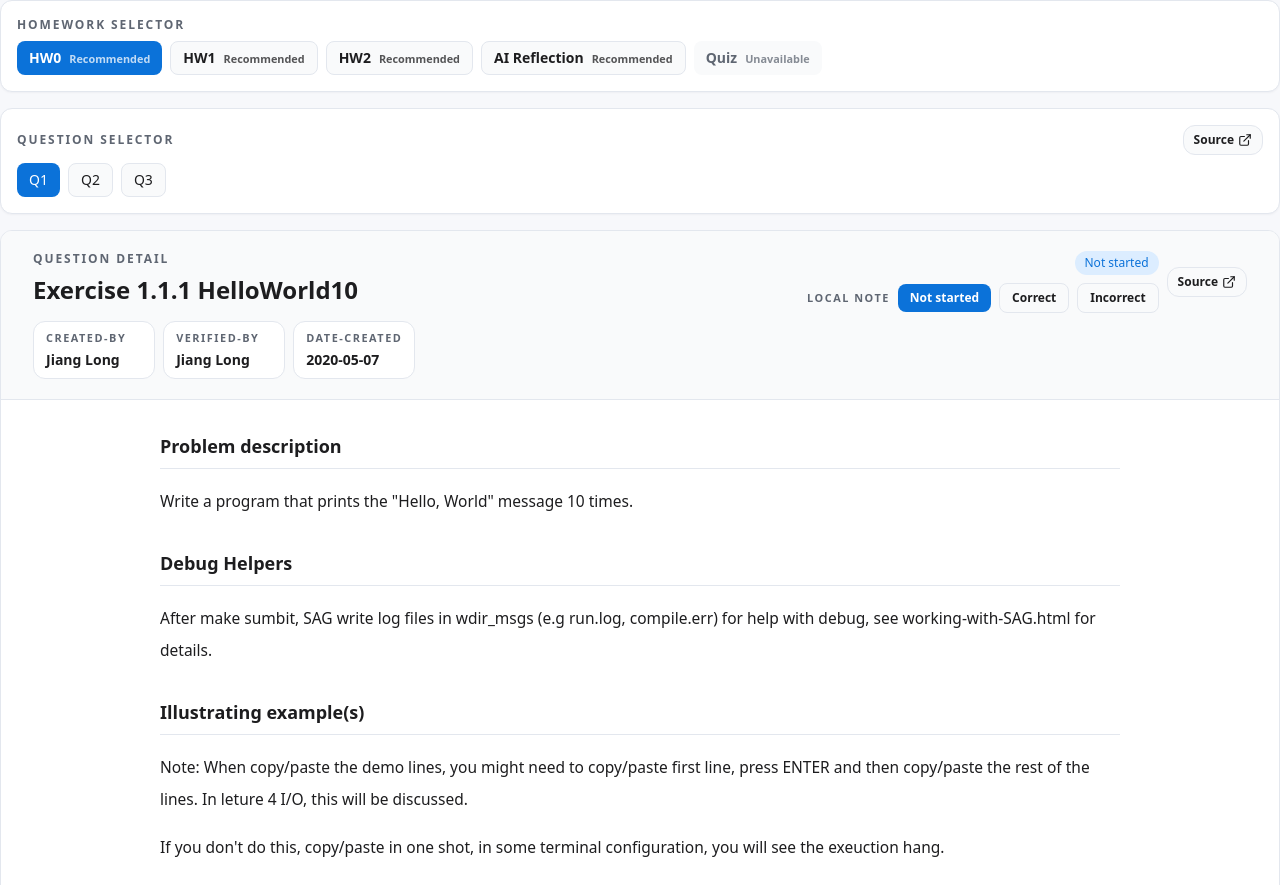
Test: HomeworkPracticeBoard › renders imported exercise detail content
The width and height of the screenshot is (1280, 885).
Click the button "HW1Recommended" at (244, 58), box [170,41,318,75]
(page scrolled)
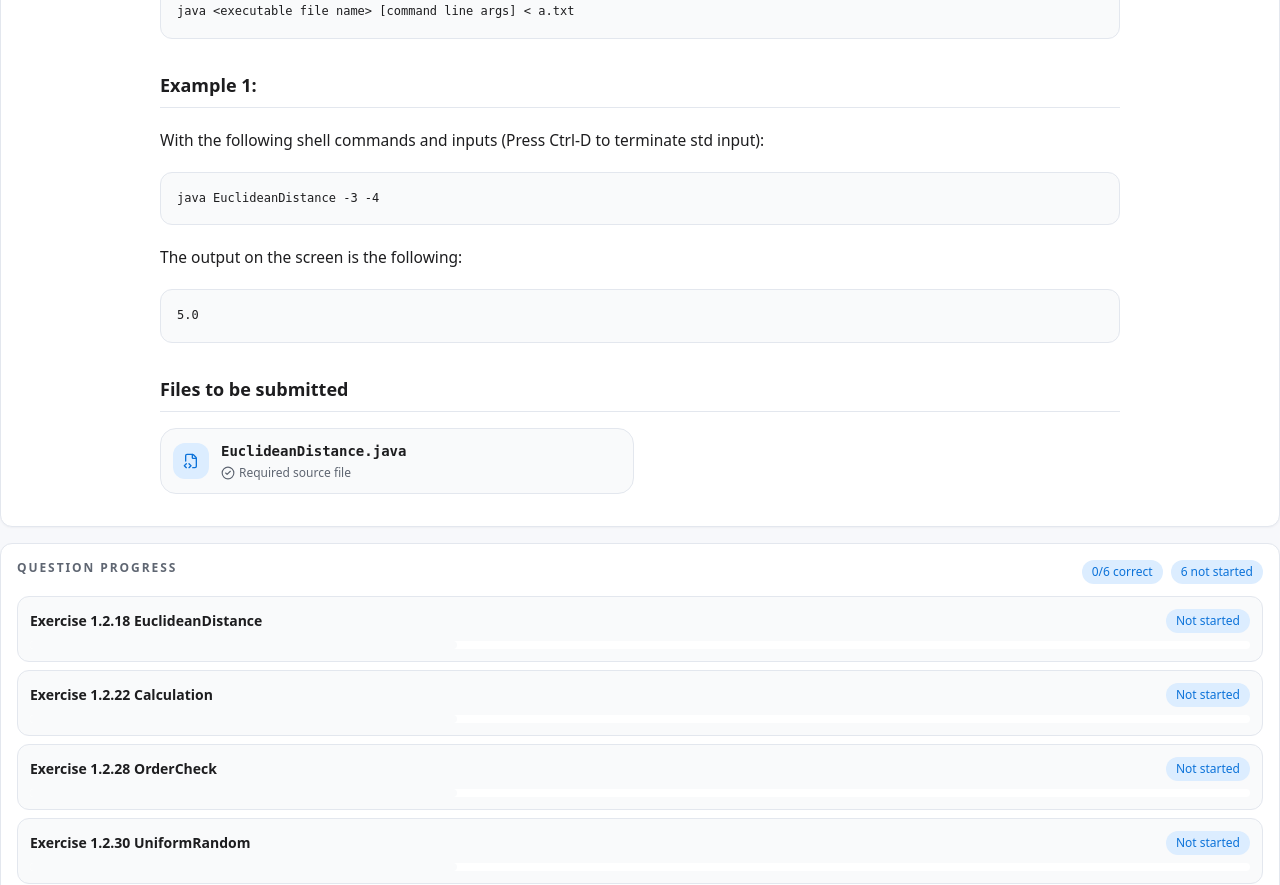
expect the text "EuclideanDistance.java" is shown: met, box [221,443,406,459]
